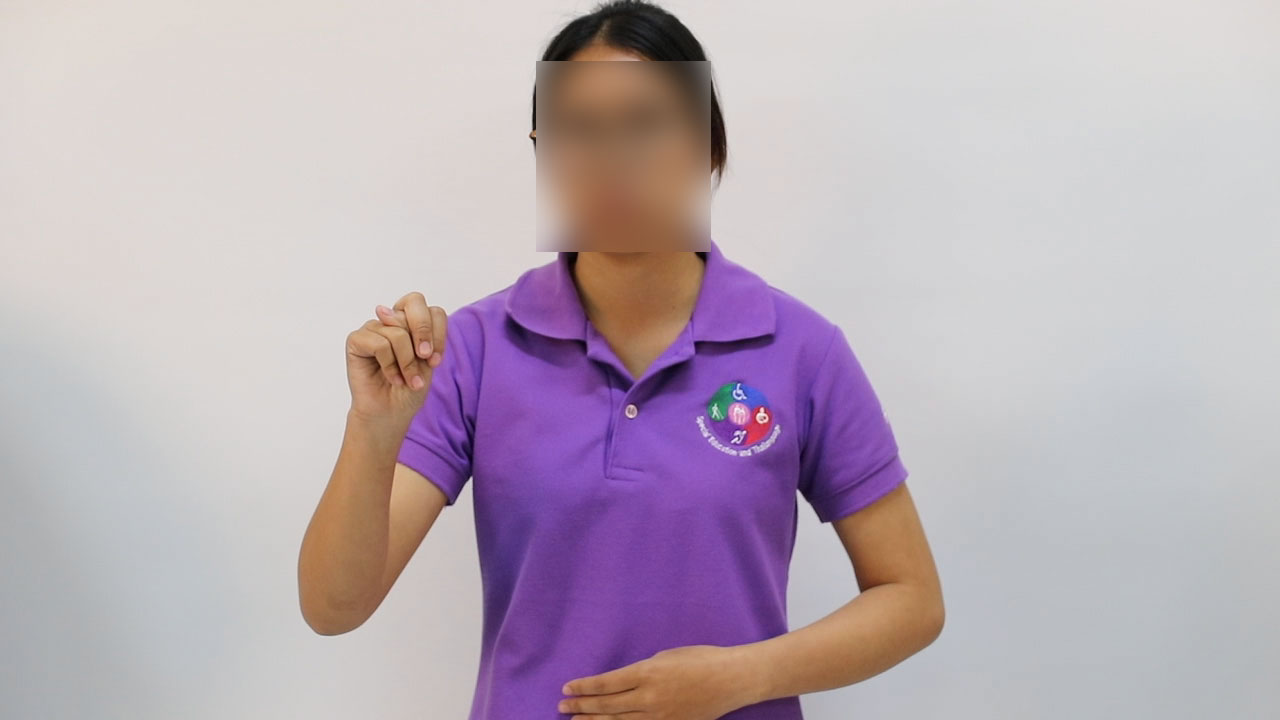nor: (324, 284, 464, 421)
